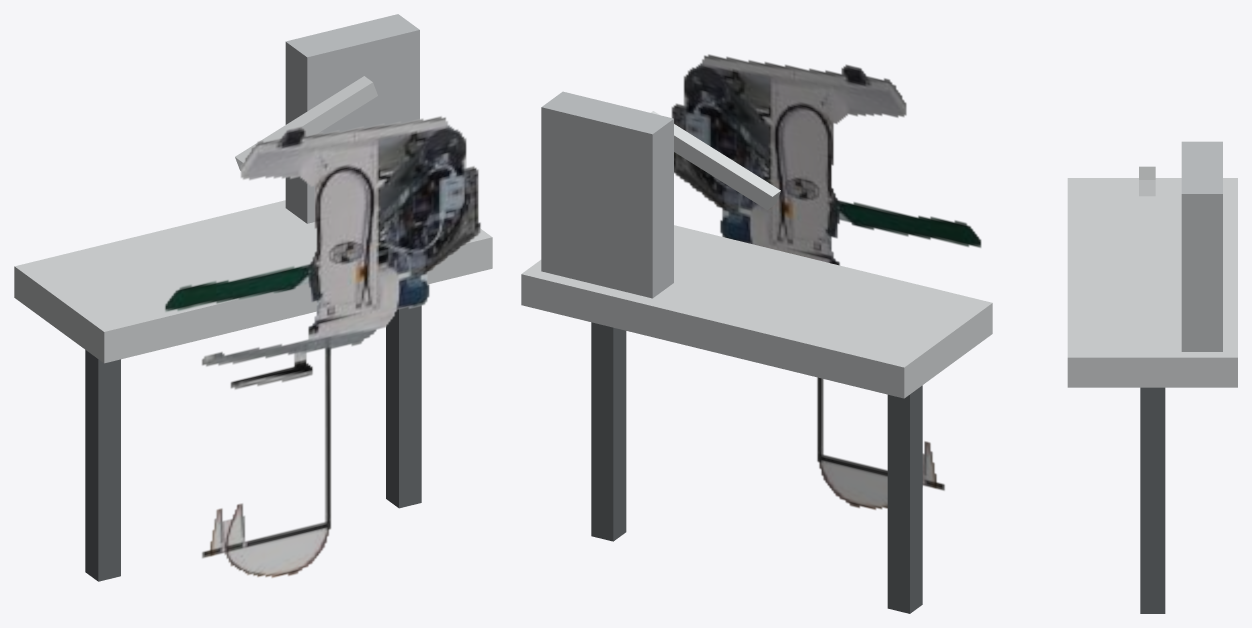
The model's file is stirmatic-spotting-table.glb.
3 renders of one model, left to right at view 1: azimuth 30°, elevation 25°; view 2: azimuth 150°, elevation 25°; view 3: azimuth 270°, elevation 25°, orthographic. The views are drawn at different scales.
Visible parts, largest first — view 1: front_decal, top, rear_panel, leg-0.6, leg0.6, arm; view 2: top, front_decal, rear_panel, leg-0.6, leg0.6, arm; view 3: top, rear_panel, leg0.6, arm.
Part boxes in pixels (x1,y1,x2,y2): front_decal: (164, 116, 480, 577); top: (14, 200, 492, 363); rear_panel: (285, 14, 419, 223); leg-0.6: (85, 350, 120, 581); leg0.6: (386, 305, 421, 508); arm: (235, 76, 377, 170); top: (521, 225, 992, 398); front_decal: (671, 54, 981, 509); rear_panel: (541, 91, 673, 298); leg-0.6: (887, 385, 922, 613); leg0.6: (591, 322, 626, 541); arm: (651, 111, 780, 209); top: (1067, 178, 1237, 387); rear_panel: (1181, 141, 1222, 351); leg0.6: (1140, 387, 1165, 613); arm: (1139, 166, 1155, 196).
Bounding box in the file's own units: 1.55 × 1.81 × 0.79.
4 materials, 1 textured.
